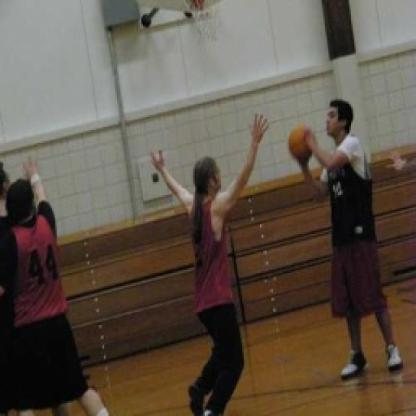basketball: (284, 122, 317, 158)
